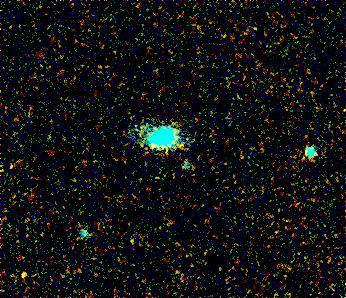star: (8, 259, 38, 289)
